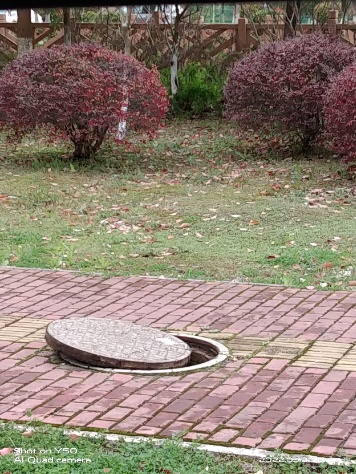well: (45, 323, 228, 375)
